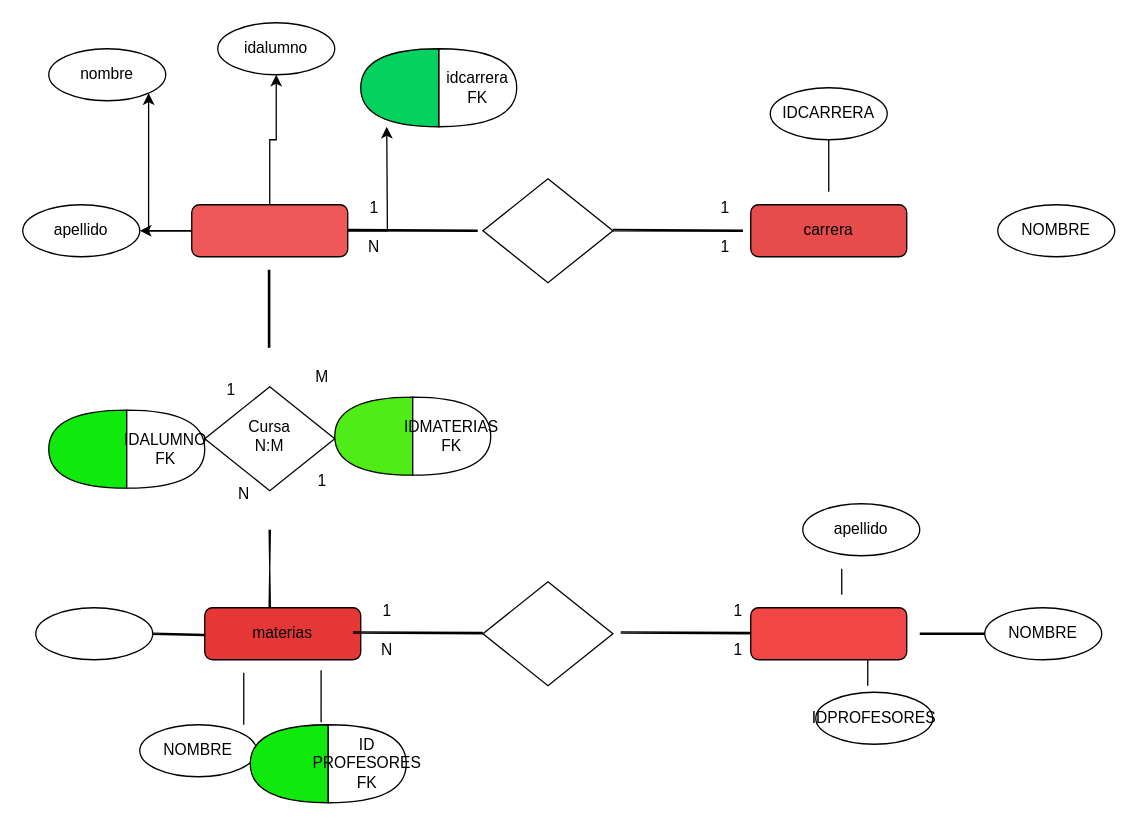
Some shapes in this 1138 by 826 pixel diagram are drawn without their labels. Each missing label, with the centre of its shape:
alumno: point 269,230
ESTUDIO 1:N: point 547,230
IDMATERIAS: point 93,633
impartir 1:N: point 547,633
profesores: point 828,633
